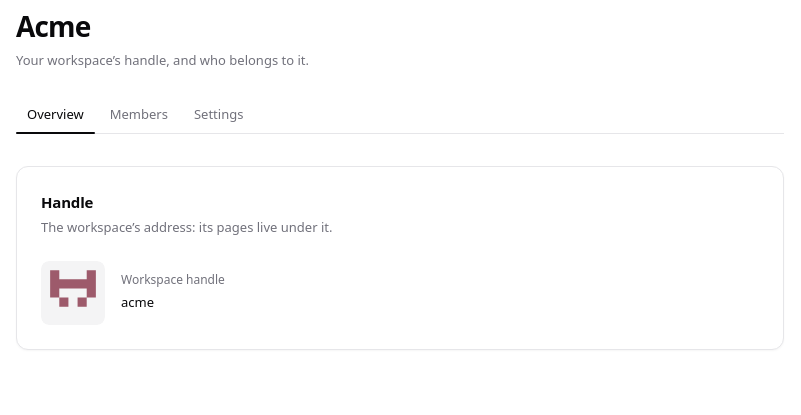
Test: the server's reason for refusing a rename is shown
Click the button with aria-label "Edit workspace handle" at [148, 302], box [115,290,180,314]
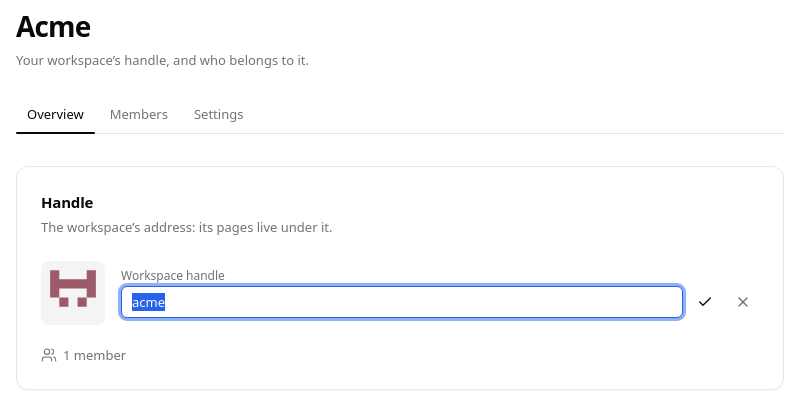
Replace the text in the field labelled "Workspace handle" with "globex" at [402, 302], box [121,286,683,318]
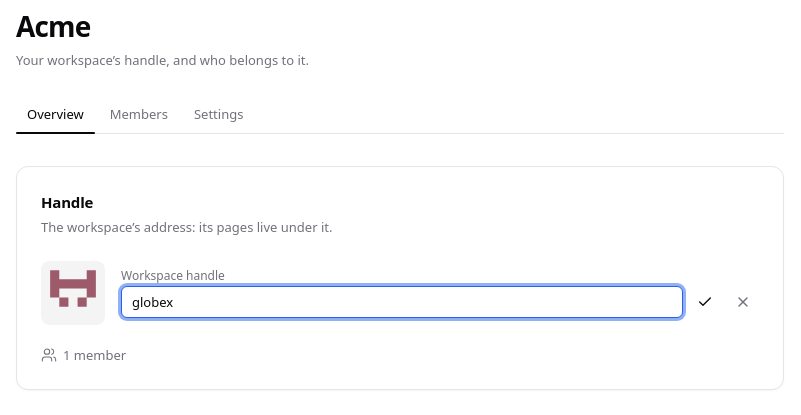
Click the button named "Save workspace handle" at [705, 302], box [689,286,721,318]
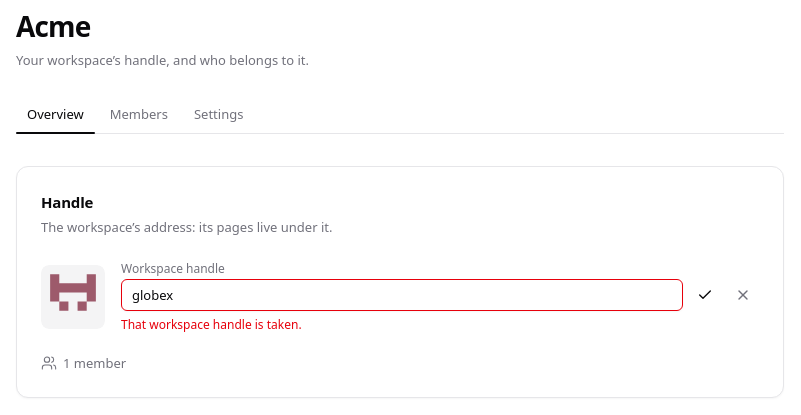
Expected: the text "That workspace handle is taken." is shown, [121,316,302,333]
